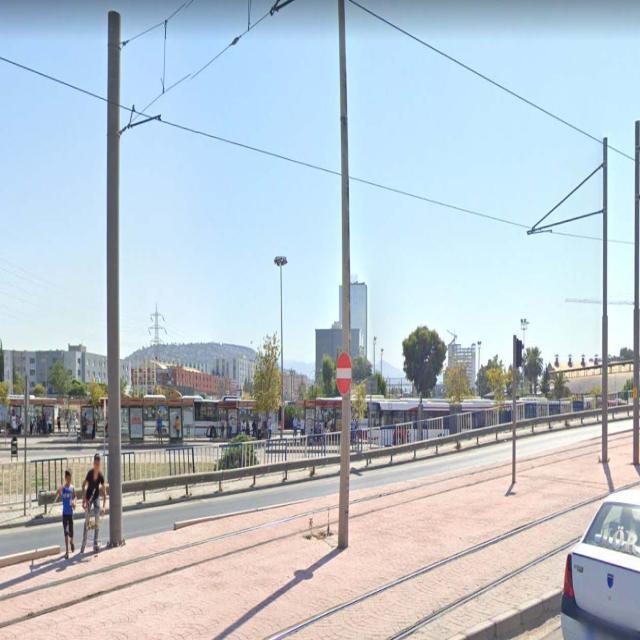girisyok: (335, 353, 352, 396)
